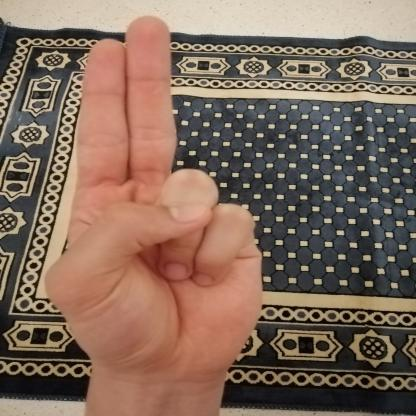TA: (24, 4, 284, 390)
